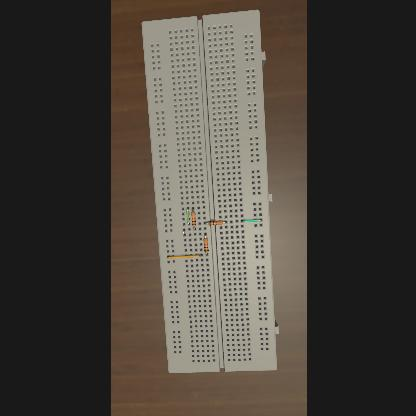breadboard: (140, 9, 278, 372)
resistor: (207, 220, 221, 226), (203, 238, 208, 252), (190, 212, 194, 226)
wire: (166, 254, 200, 258), (240, 219, 260, 223), (186, 208, 188, 224), (182, 228, 184, 236), (192, 226, 194, 230), (221, 221, 224, 223), (204, 222, 206, 224), (206, 253, 206, 255), (204, 232, 204, 238), (192, 208, 192, 212)
